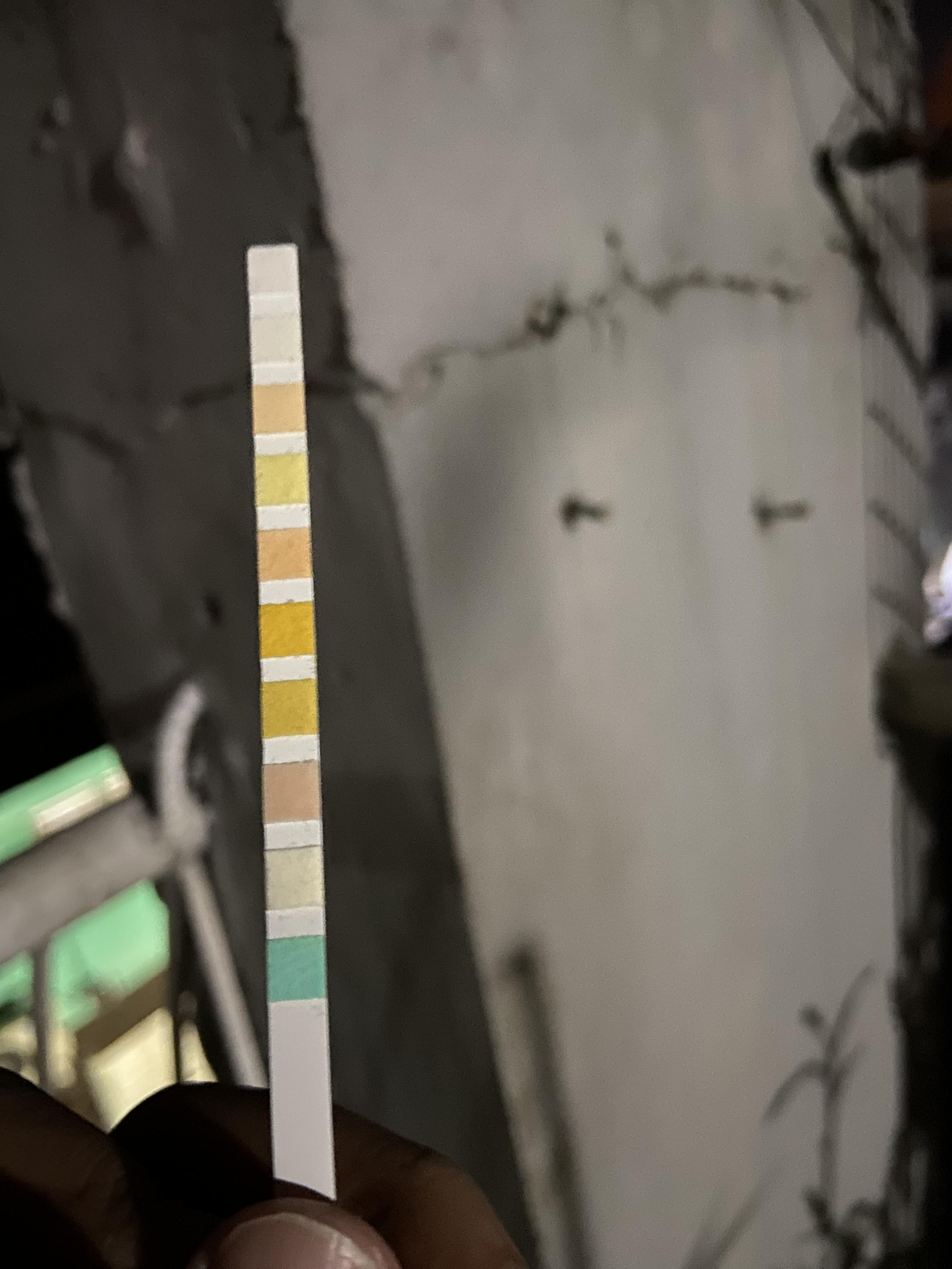Bilirubin: (268, 850, 320, 906)
Blood: (264, 605, 310, 656)
Glucose: (269, 942, 321, 997)
Ketone: (265, 767, 317, 819)
Leukocytes: (251, 250, 294, 291)
Nitrite: (252, 319, 300, 362)
Protein: (259, 456, 304, 501)
SpGravity: (265, 684, 314, 733)
Urobilinogen: (258, 386, 304, 430)
pH: (262, 534, 307, 578)
strip: (246, 245, 335, 1186)
